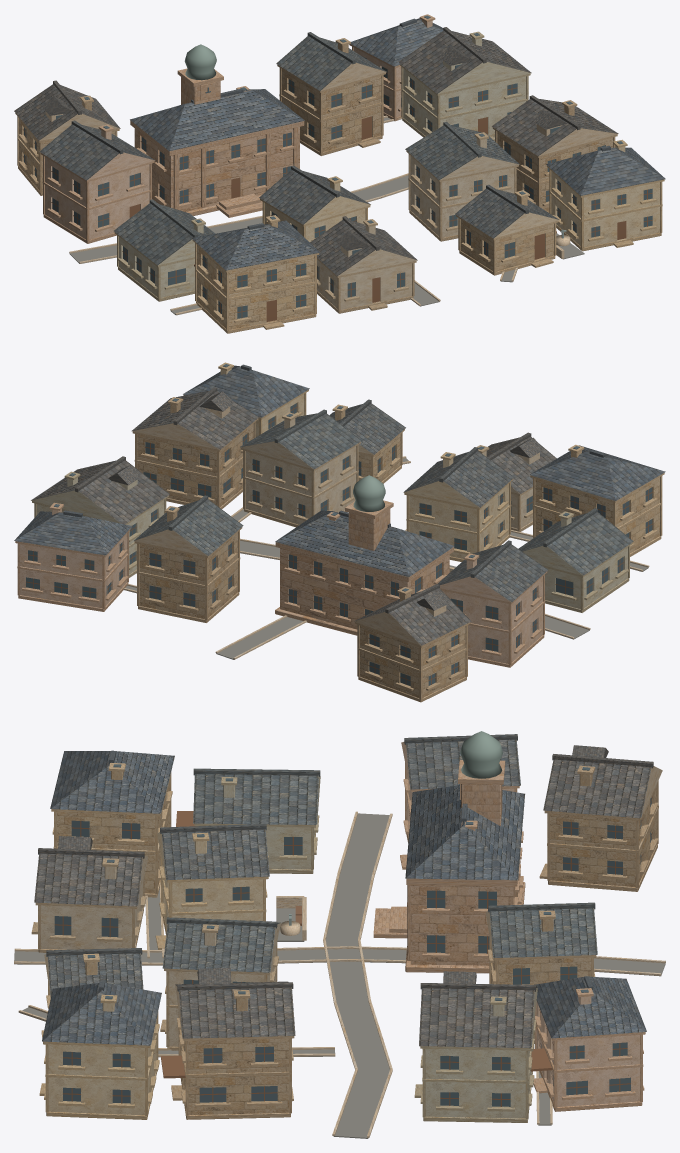
The model's file is city_east_1.gltf.
3 renders of one model, top to bottom at view 1: azimuth 30°, elevation 25°; view 2: azimuth 150°, elevation 25°; view 3: azimuth 270°, elevation 25°, orthographic. The views are drawn at different scales.
Visible parts, largest first — view 1: city_east_1; view 2: city_east_1; view 3: city_east_1.
Part boxes in pixels (x1,y1,x2,y2): city_east_1: [14, 14, 665, 333]; city_east_1: [14, 362, 665, 702]; city_east_1: [14, 731, 665, 1138].
Bounding box in the file's own units: 1 × 0.2761 × 0.8483.
5 materials, 1 textured.
